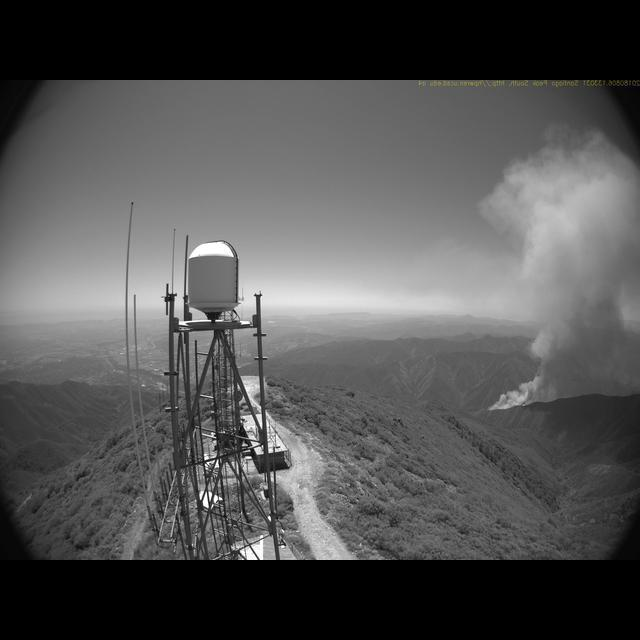Smoke: (490, 129, 639, 414)
